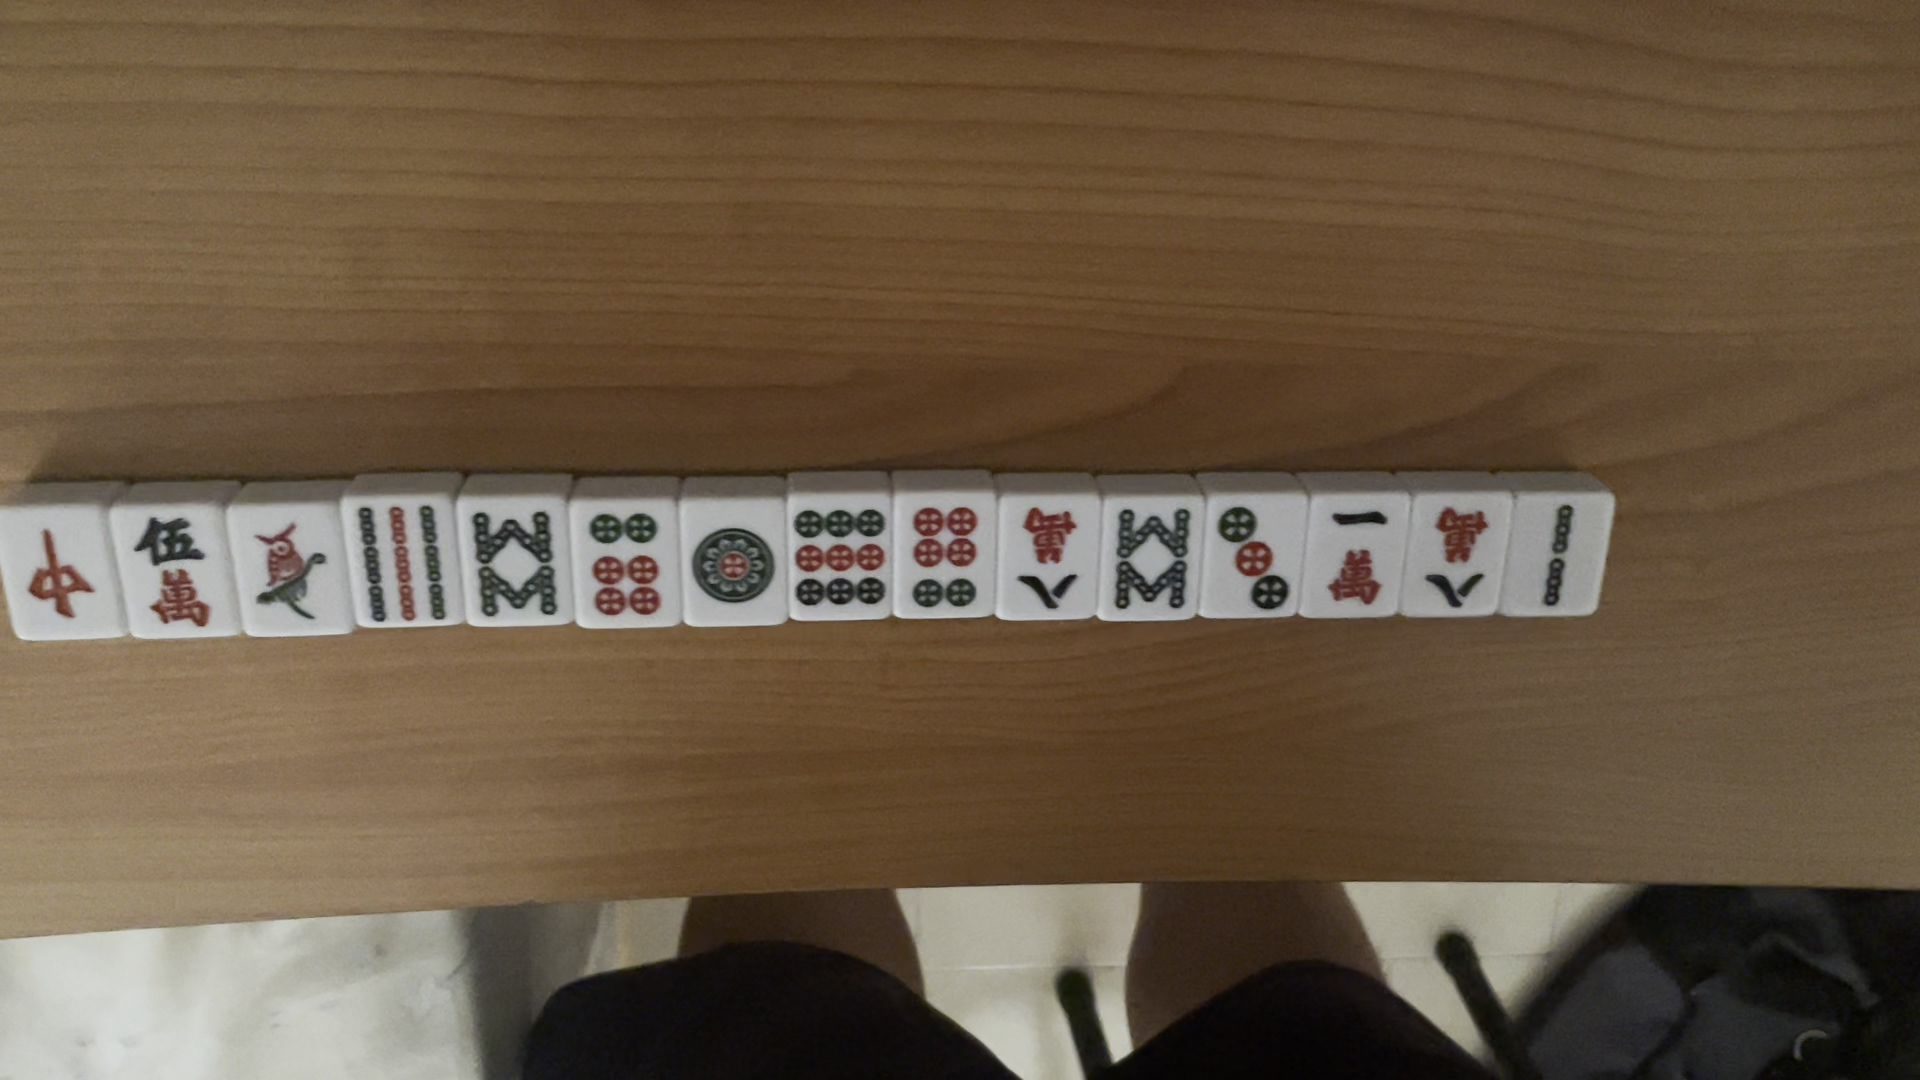b-1: (248, 525, 342, 626)
b-2: (1531, 495, 1593, 618)
b-8: (464, 504, 556, 620), (1113, 502, 1193, 612)
b-9: (344, 504, 454, 633)
c-1: (1325, 501, 1394, 604)
c-5: (120, 506, 220, 633)
c-8: (1423, 504, 1501, 613), (1011, 506, 1089, 615)
d-1: (690, 520, 777, 615)
d-3: (1218, 498, 1294, 621)
d-6: (902, 496, 984, 622), (583, 501, 665, 626)
d-9: (789, 504, 889, 615)
honors-red: (18, 521, 98, 628)
